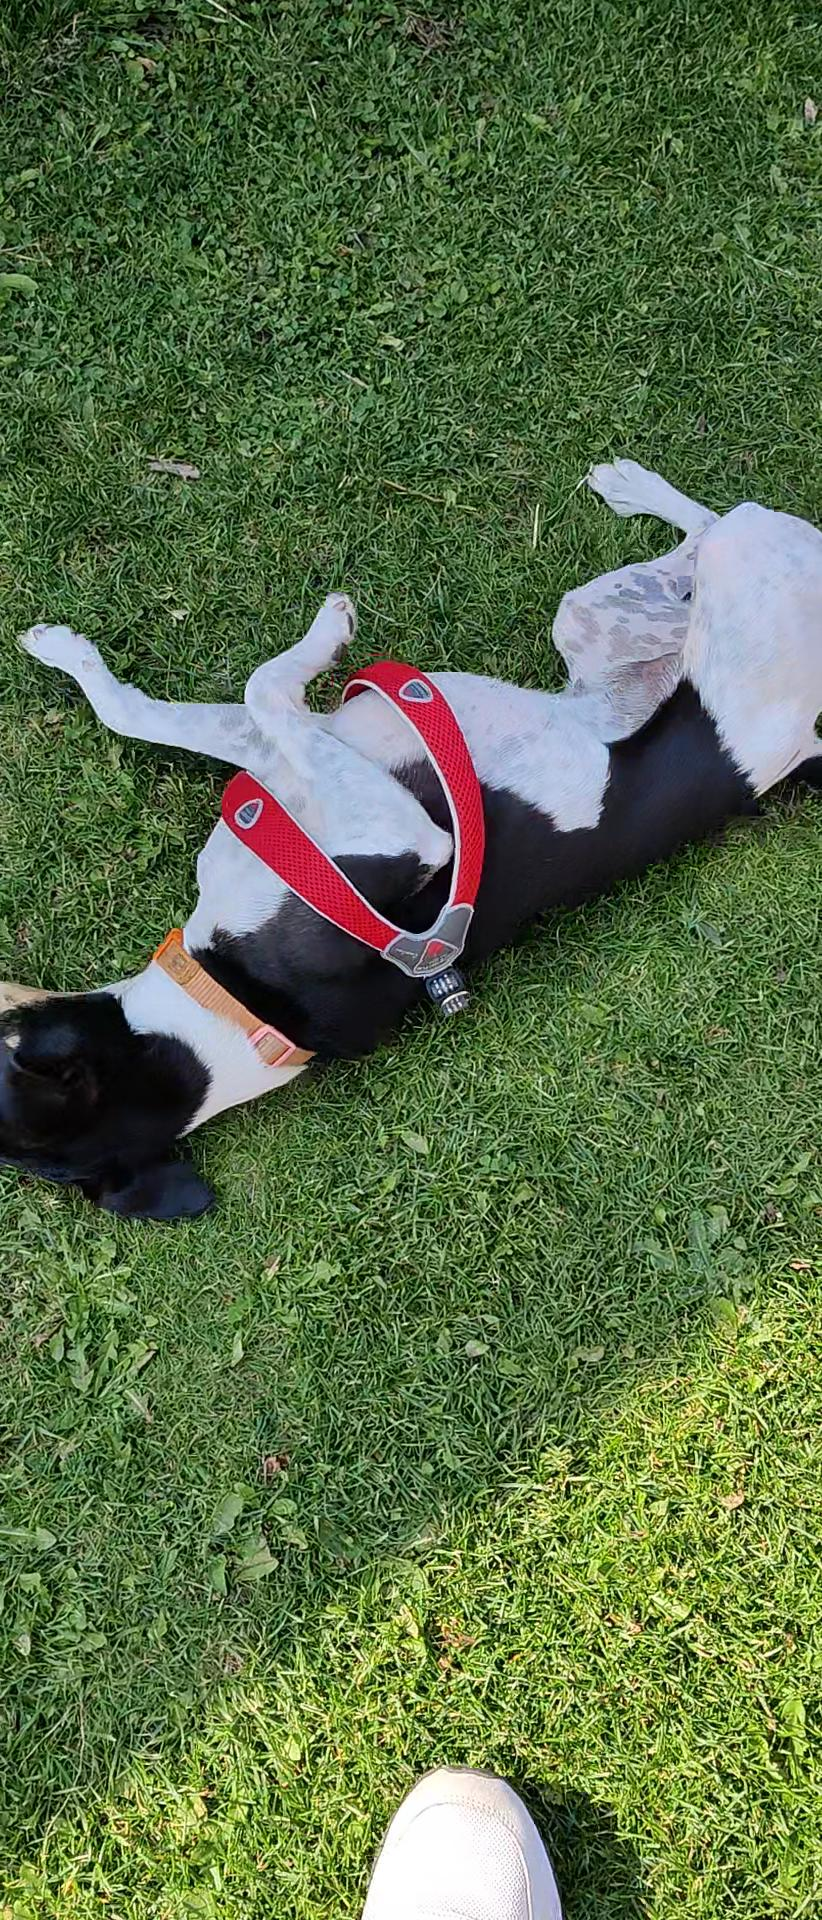Dog: (0, 440, 821, 1236)
